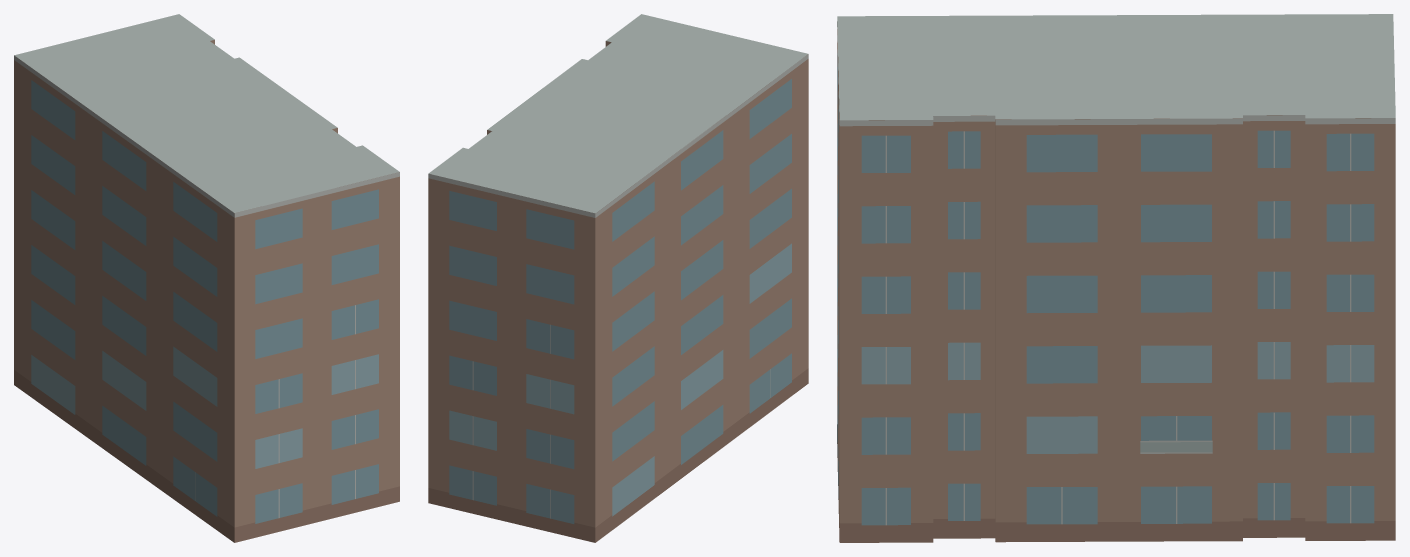
Rendered from survey-upis-32577907.glb.
The picture shows the model from 3 angles, left to right: view 1: azimuth 30°, elevation 25°; view 2: azimuth 150°, elevation 25°; view 3: azimuth 270°, elevation 25°; orthographic projection. The views are drawn at different scales.
Parts seen in each view (by area): view 1: survey-upis-32577907.tmp; view 2: survey-upis-32577907.tmp; view 3: survey-upis-32577907.tmp.
Boxes of the visible parts, bbox=[...] form: survey-upis-32577907.tmp: bbox=[14, 14, 399, 542]; survey-upis-32577907.tmp: bbox=[428, 14, 808, 542]; survey-upis-32577907.tmp: bbox=[837, 14, 1395, 542].
Bounding box in the file's own units: 9.34 × 17.3 × 20.73.
